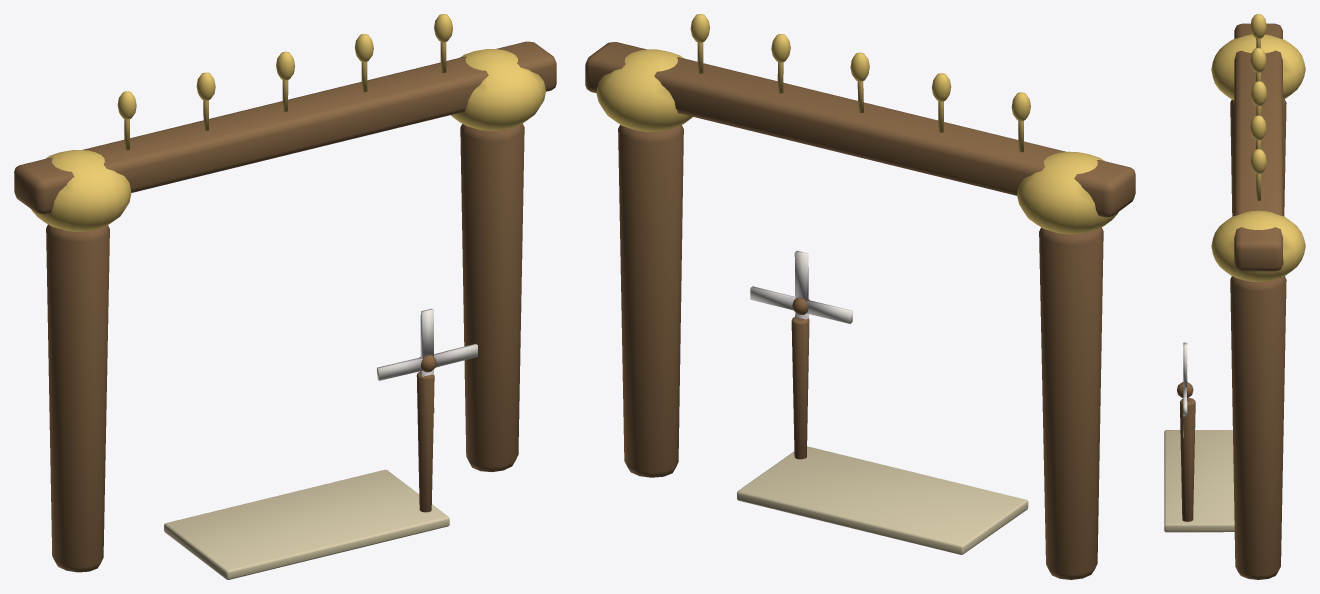
The picture shows the model from 3 angles, left to right: view 1: azimuth 30°, elevation 25°; view 2: azimuth 150°, elevation 25°; view 3: azimuth 270°, elevation 25°; orthographic projection. The views are drawn at different scales.
Visible parts, largest first — view 1: gate_a7b00672; view 2: gate_a7b00672; view 3: gate_a7b00672.
Part boxes in pixels (x1,y1,x2,y2): gate_a7b00672: (14,14,556,579); gate_a7b00672: (585,14,1135,579); gate_a7b00672: (1164,14,1305,579).
Bounding box in the file's own units: 5.61 × 4.76 × 1.51.
